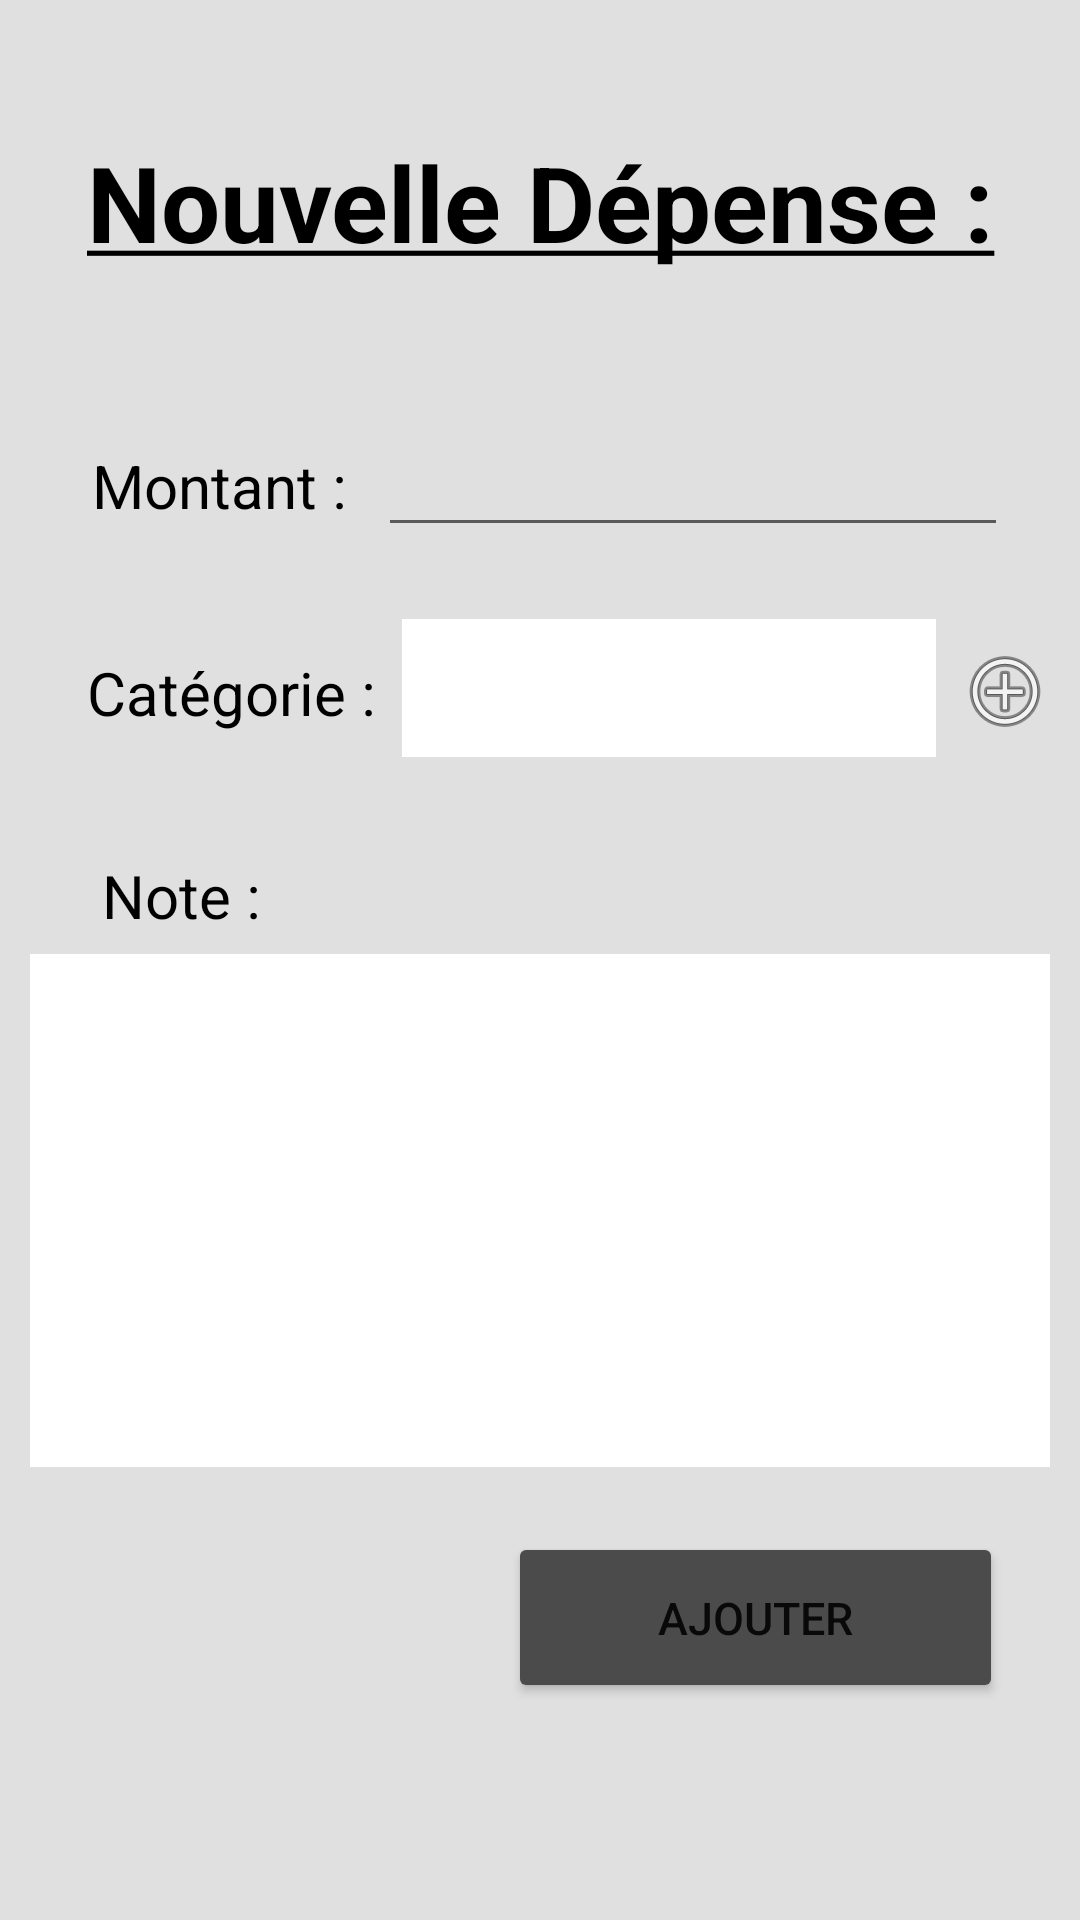

Point at icon controls on the screen. Image size 1080px×1920px, points as point (x, y).
add: point (1005, 691)
